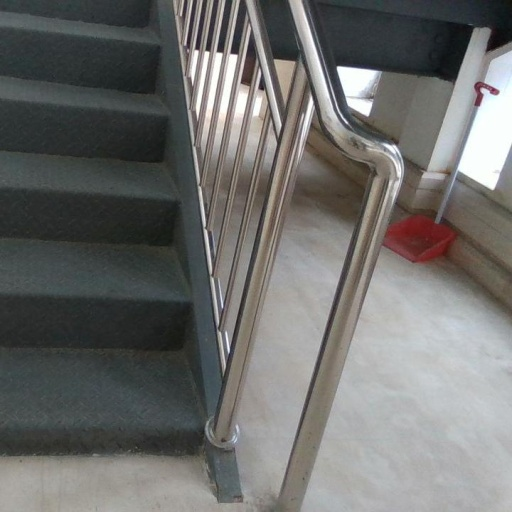Stairs: (0, 0, 203, 454)
